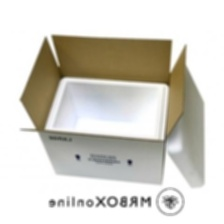book: (15, 27, 193, 187)
foam_box: (39, 72, 173, 142)
